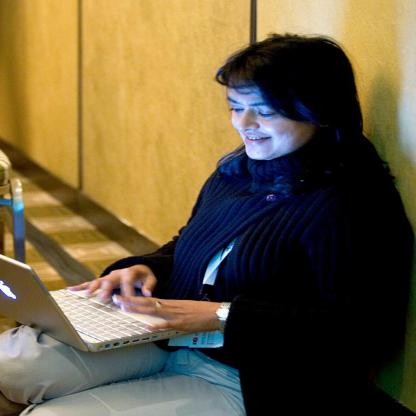board: (0, 254, 244, 360)
